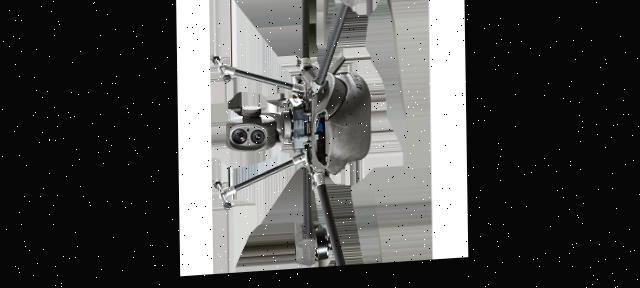drone: (176, 0, 462, 279)
